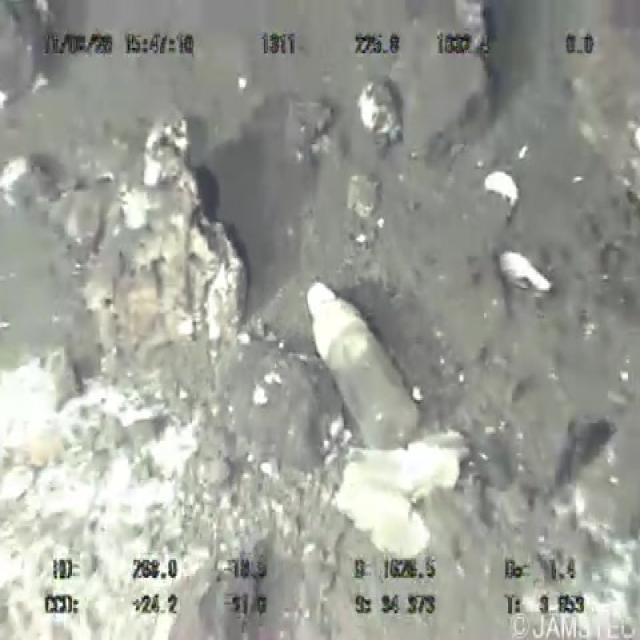plastic: (302, 272, 422, 466)
